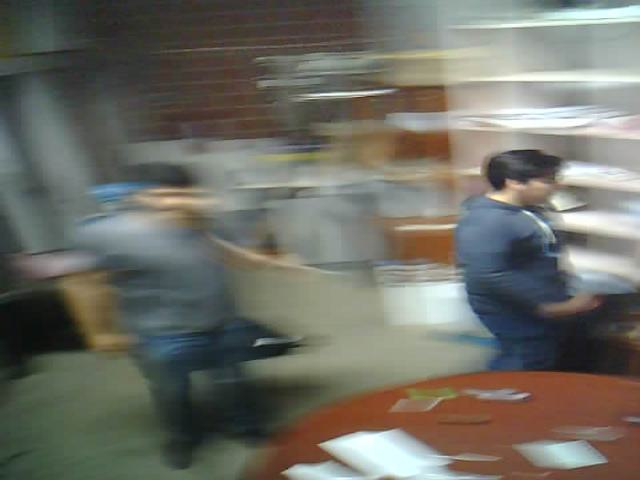person: (27, 127, 318, 480), (421, 89, 638, 397)
